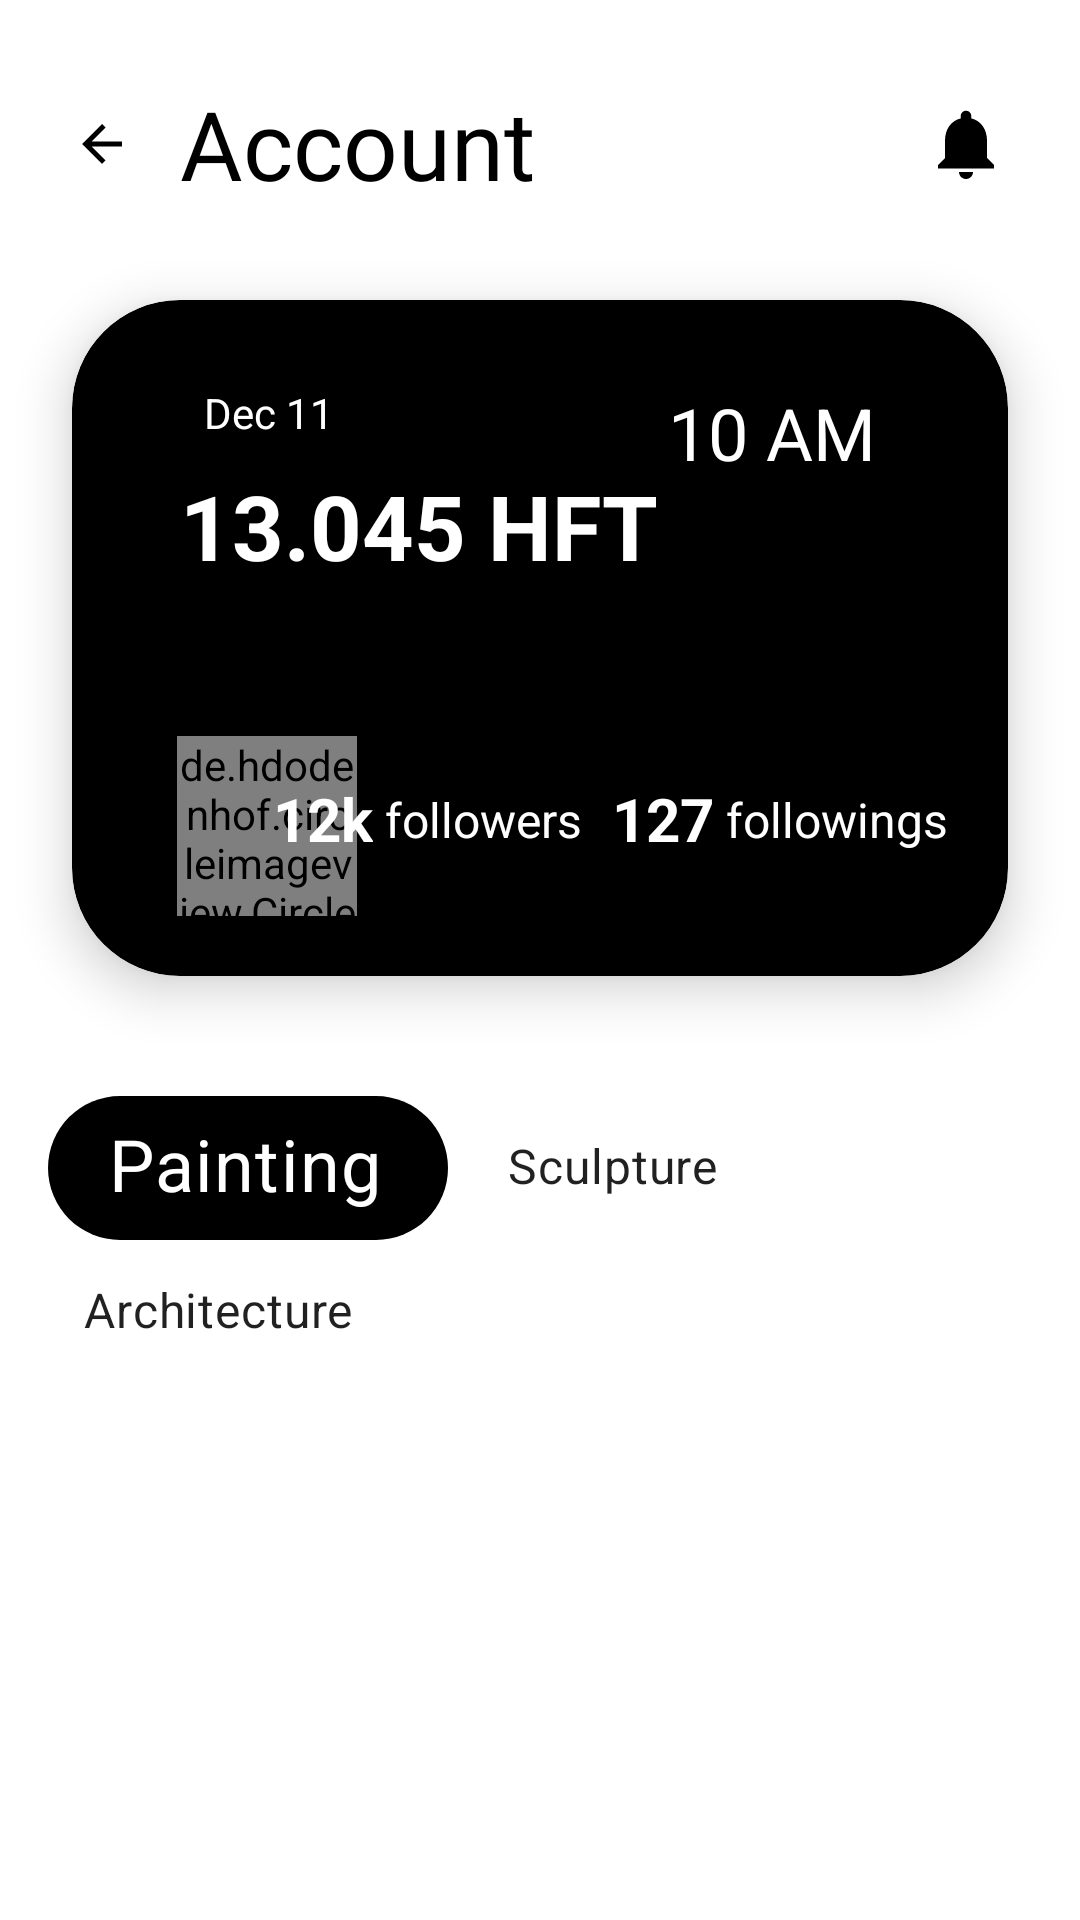

Screen size 1080x1920. Icon name, then its center in pixels as point (x, y):
arrow back: point (102, 144)
notifications: point (966, 144)
